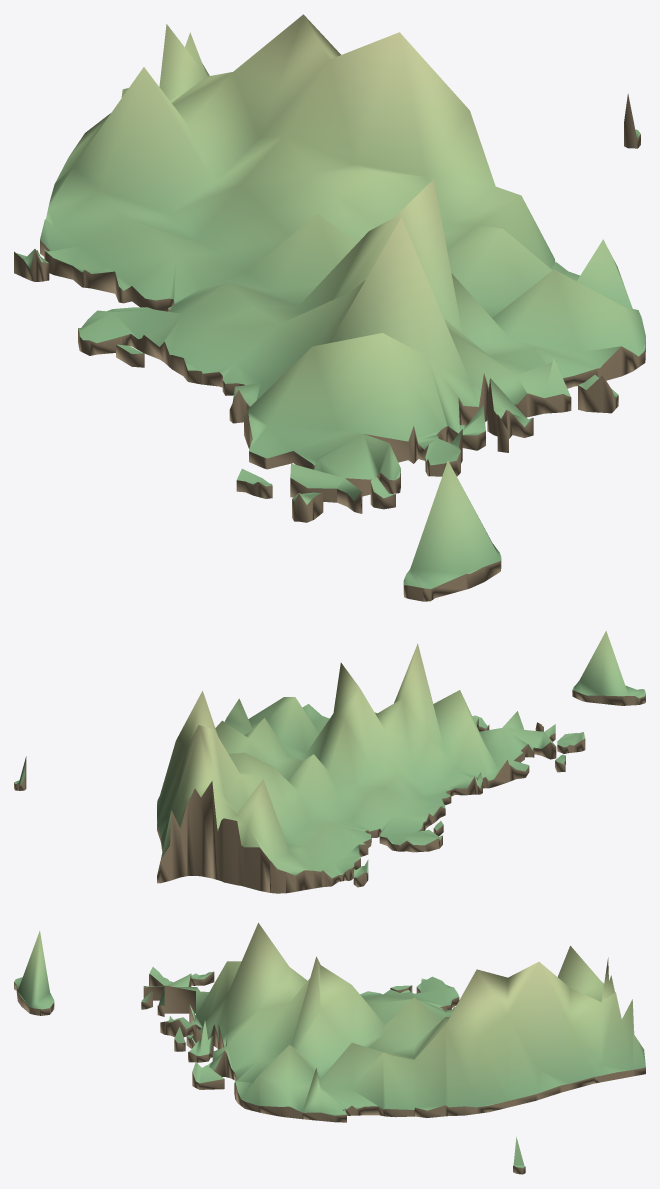
File: KOR.glb
3 renders of one model, top to bottom at view 1: azimuth 30°, elevation 25°; view 2: azimuth 150°, elevation 25°; view 3: azimuth 270°, elevation 25°, orthographic. The views are drawn at different scales.
Visible parts, largest first — view 1: KOR; view 2: KOR; view 3: KOR.
Boxes of the visible parts, x1=… form: KOR: x1=14, y1=14, x2=645, y2=601; KOR: x1=14, y1=631, x2=645, y2=893; KOR: x1=14, y1=923, x2=645, y2=1174.
Bounding box in the file's own units: 1.15 × 0.338 × 1.57.
